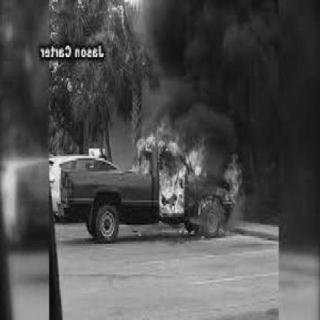Smoke: (154, 1, 308, 121)
